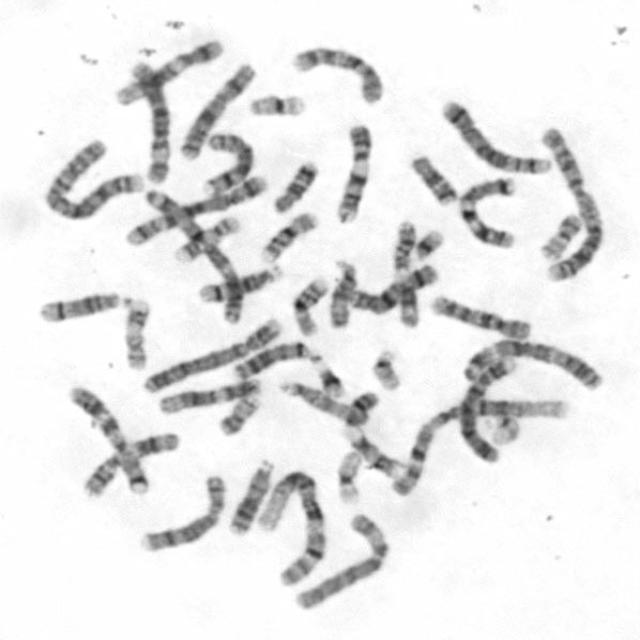A1: (385, 393, 574, 499), (255, 466, 328, 588)
A2: (535, 124, 606, 282), (40, 135, 146, 222)
A3: (138, 184, 245, 326), (455, 334, 607, 393)
B4: (138, 313, 285, 395), (454, 350, 517, 462)
B5: (120, 172, 270, 248), (438, 95, 553, 177)
C10: (287, 42, 385, 107), (427, 291, 534, 341)
C11: (78, 428, 182, 498), (385, 220, 426, 336)
C12: (110, 35, 227, 107), (153, 374, 263, 416)
C6: (290, 509, 392, 611), (124, 54, 174, 184)
C7: (62, 382, 151, 496), (454, 174, 520, 249)
C8: (136, 470, 227, 554), (198, 128, 256, 197)
C9: (335, 387, 411, 487), (329, 123, 382, 228)
D13: (225, 455, 277, 536), (230, 337, 315, 381)
D14: (194, 260, 284, 305), (33, 287, 131, 324)
D15: (275, 377, 372, 427), (324, 257, 358, 330)
E16: (256, 208, 321, 264), (288, 273, 331, 337)
E17: (170, 211, 244, 264), (119, 296, 152, 372)
E18: (268, 157, 320, 216), (407, 151, 459, 206)
F19: (245, 89, 309, 120), (332, 446, 365, 506)
F20: (536, 209, 584, 262), (214, 392, 264, 438)
G21: (309, 355, 347, 401), (411, 225, 445, 262)
G22: (367, 345, 404, 392), (486, 411, 522, 444)
X: (176, 58, 259, 160), (344, 261, 440, 316)
